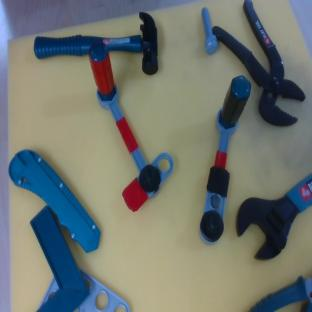non_pass: (192, 72, 253, 246)
pass: (83, 30, 183, 213)
